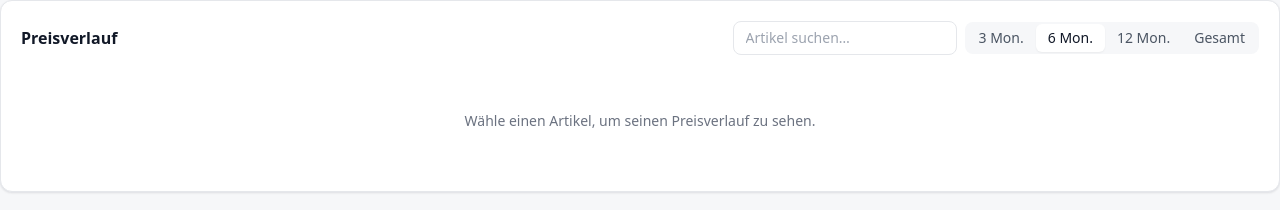
it: PriceHistory German empty states › reports an empty price trend in German
Type "banan" into the dropdown labelled "Artikel" at (844, 38), box [732,21,956,55]
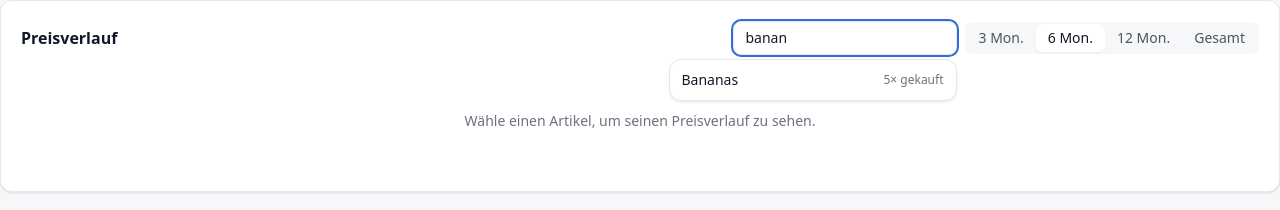
Click the option "Bananas 5× gekauft" at (710, 80), box [682,70,944,89]
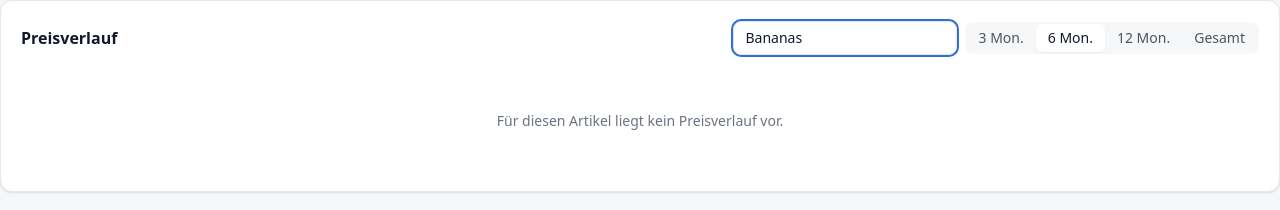
Check: the text "Für diesen Artikel liegt kein Preisverlauf vor." is shown, box [497,111,783,130]
